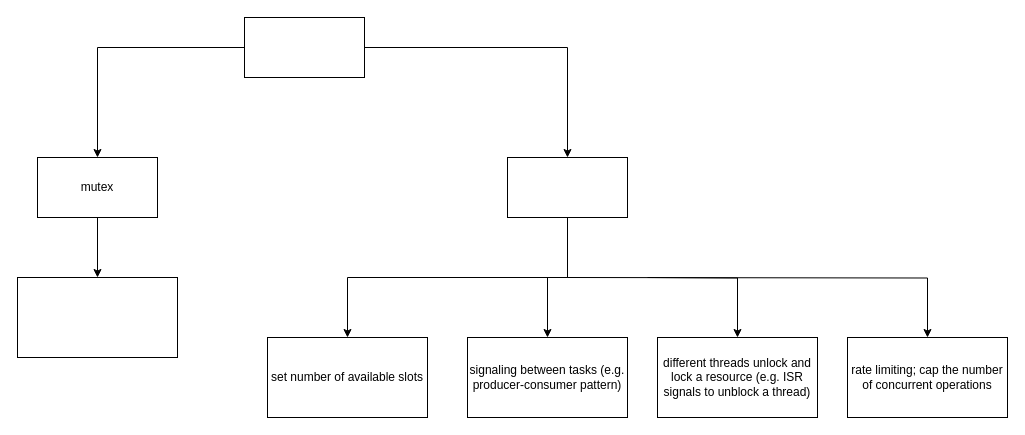
The diagram is 1025 pixels wide and 435 high, and some of its shapes have lost their labels. Here are the shapes that lost their labels. From the top down, the box of each, then its label:
(244, 16, 364, 78): shared resources
(506, 156, 628, 218): semaphore
(16, 276, 178, 358): one resource
